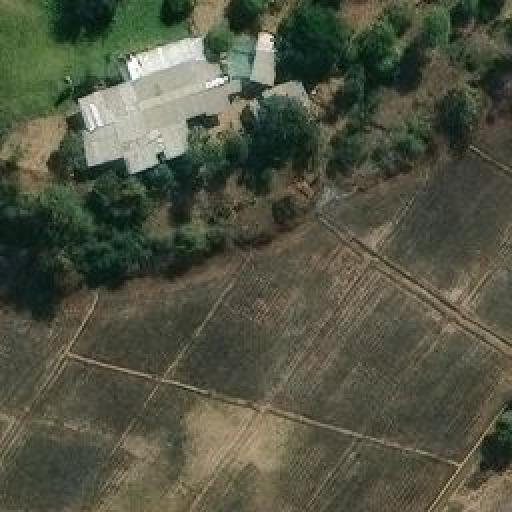manzanas: (68, 29, 317, 185)
